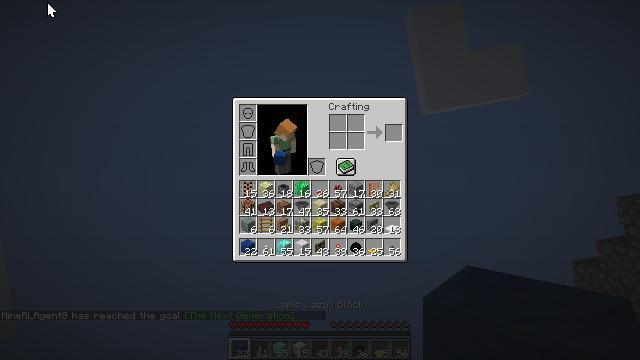cursor: (47, 2, 57, 18)
